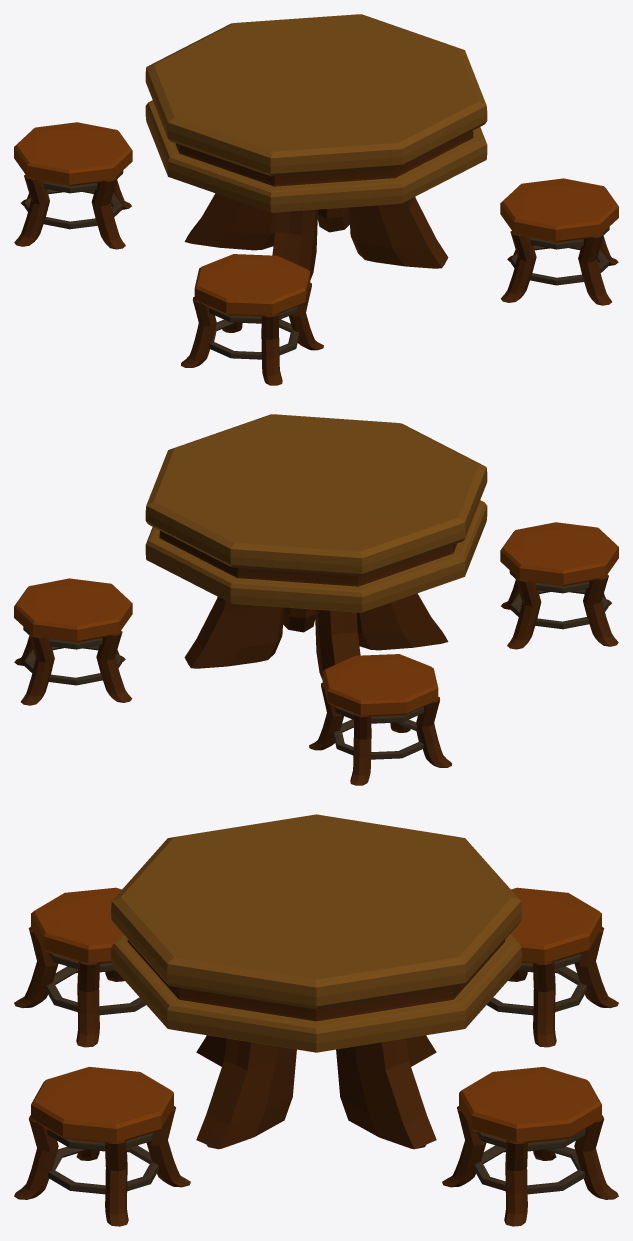
Rendered from TavernTable.fbx.
The picture shows the model from 3 angles, top to bottom: view 1: azimuth 30°, elevation 25°; view 2: azimuth 150°, elevation 25°; view 3: azimuth 270°, elevation 25°; orthographic projection. The views are drawn at different scales.
Parts seen in each view (by area): view 1: Cube, Chair.003; view 2: Cube, Chair.003; view 3: Cube, Chair.003.
Part boxes in pixels (x1,y1,x2,y2): Cube: [145, 14, 487, 279]; Chair.003: [14, 122, 618, 385]; Cube: [145, 414, 487, 679]; Chair.003: [14, 522, 618, 785]; Cube: [111, 814, 521, 1149]; Chair.003: [14, 887, 618, 1226].
Bounding box in the file's own units: 293 × 109 × 295.
